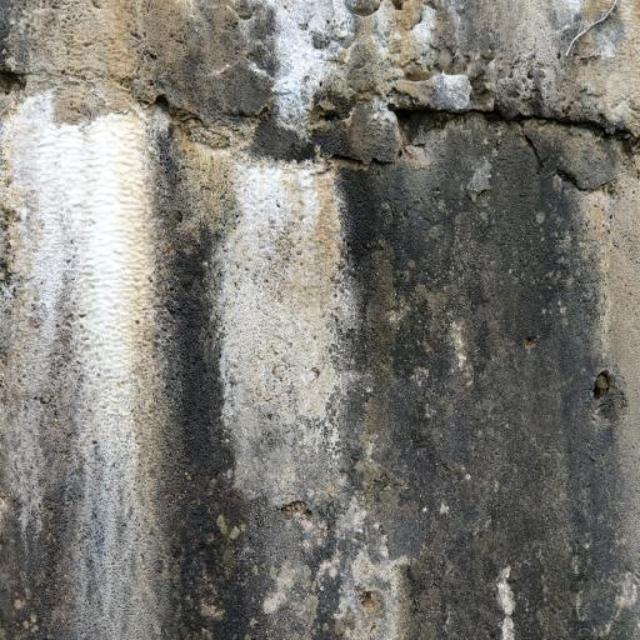D01: (2, 94, 169, 637), (270, 2, 353, 129)
